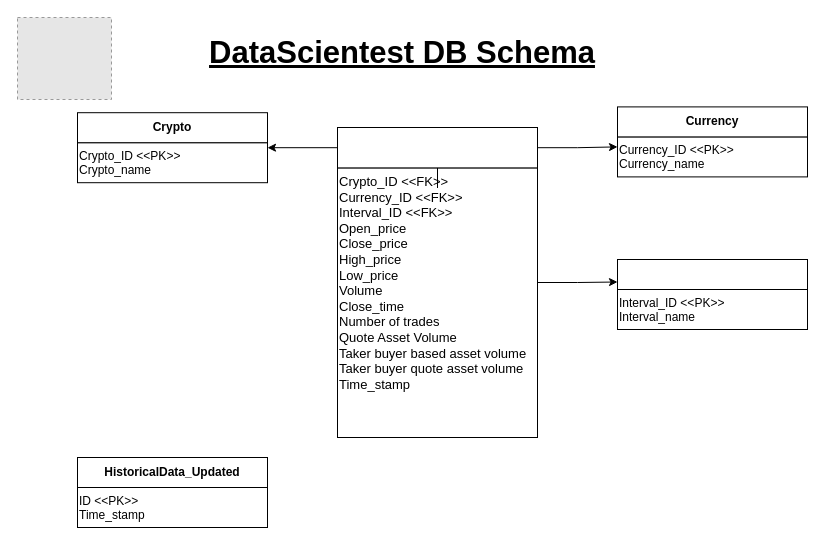
Some shapes in this 825 by 553 pixel diagram are drawn without their labels. Grey dashed boxes stand in for pictures. The centre of each missing label's shape, as x and y in pixels:
Crypto_data: [437,147]
Interval: [712,274]
